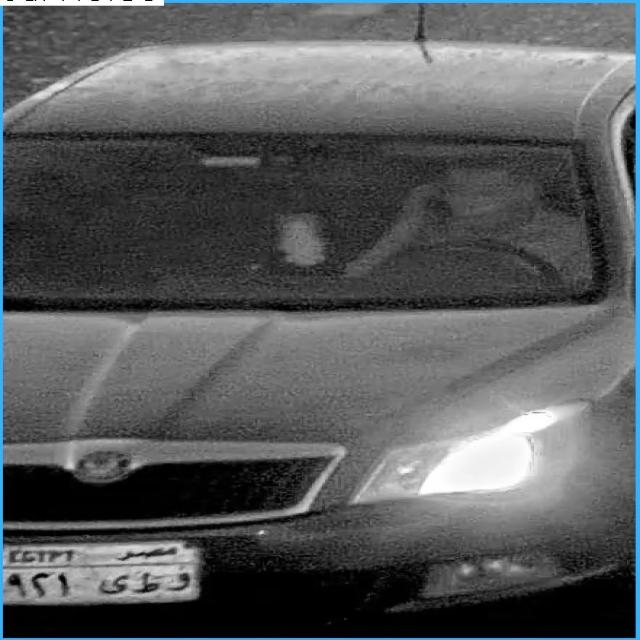windshield: (13, 136, 605, 314)
